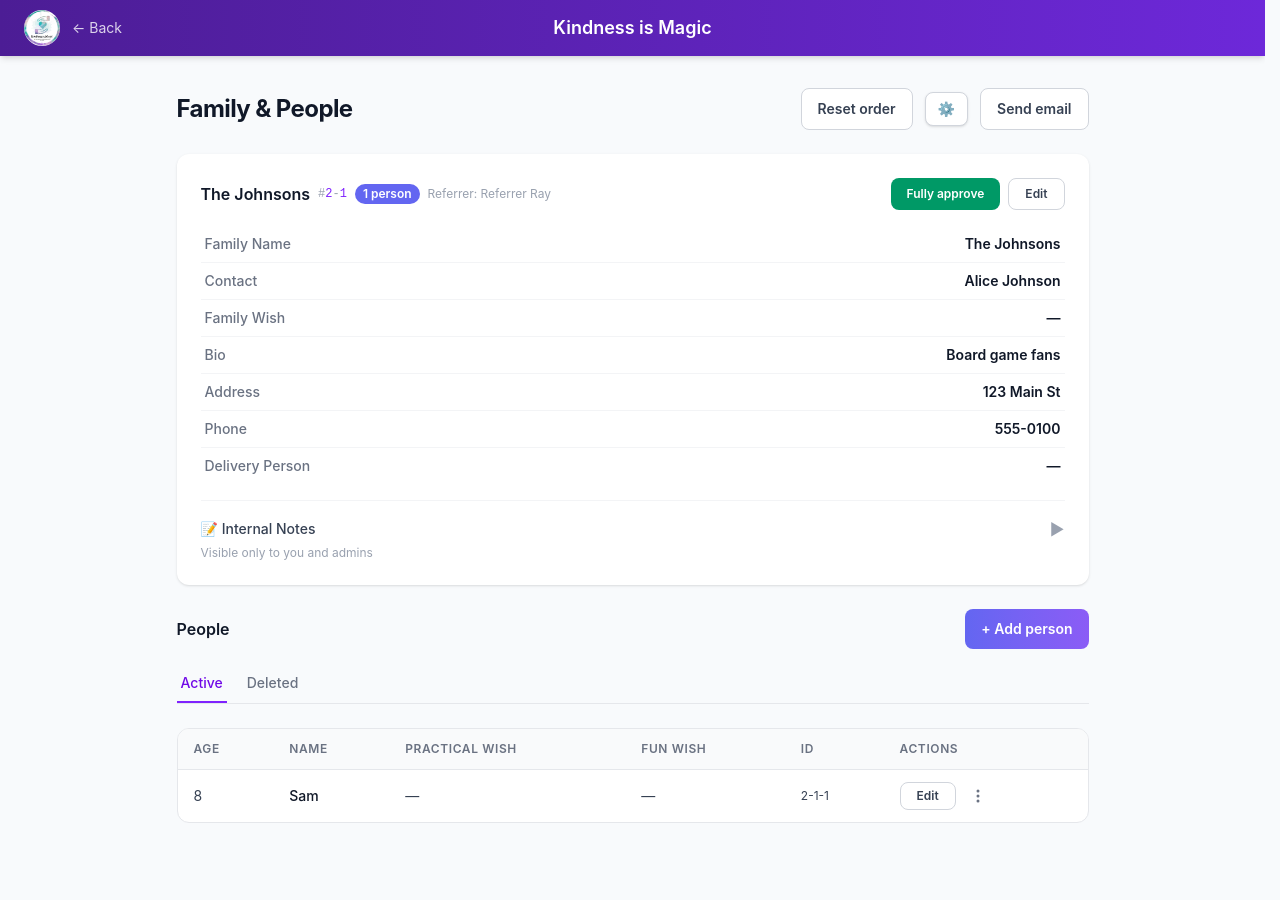
AdminFamilyPeople › people table column order › reset order restores the registry order and hides the button
Check: the text "Sam" is shown, box [273,770,389,822]
Click the button "Reset order": (856,109) [800,88,912,130]
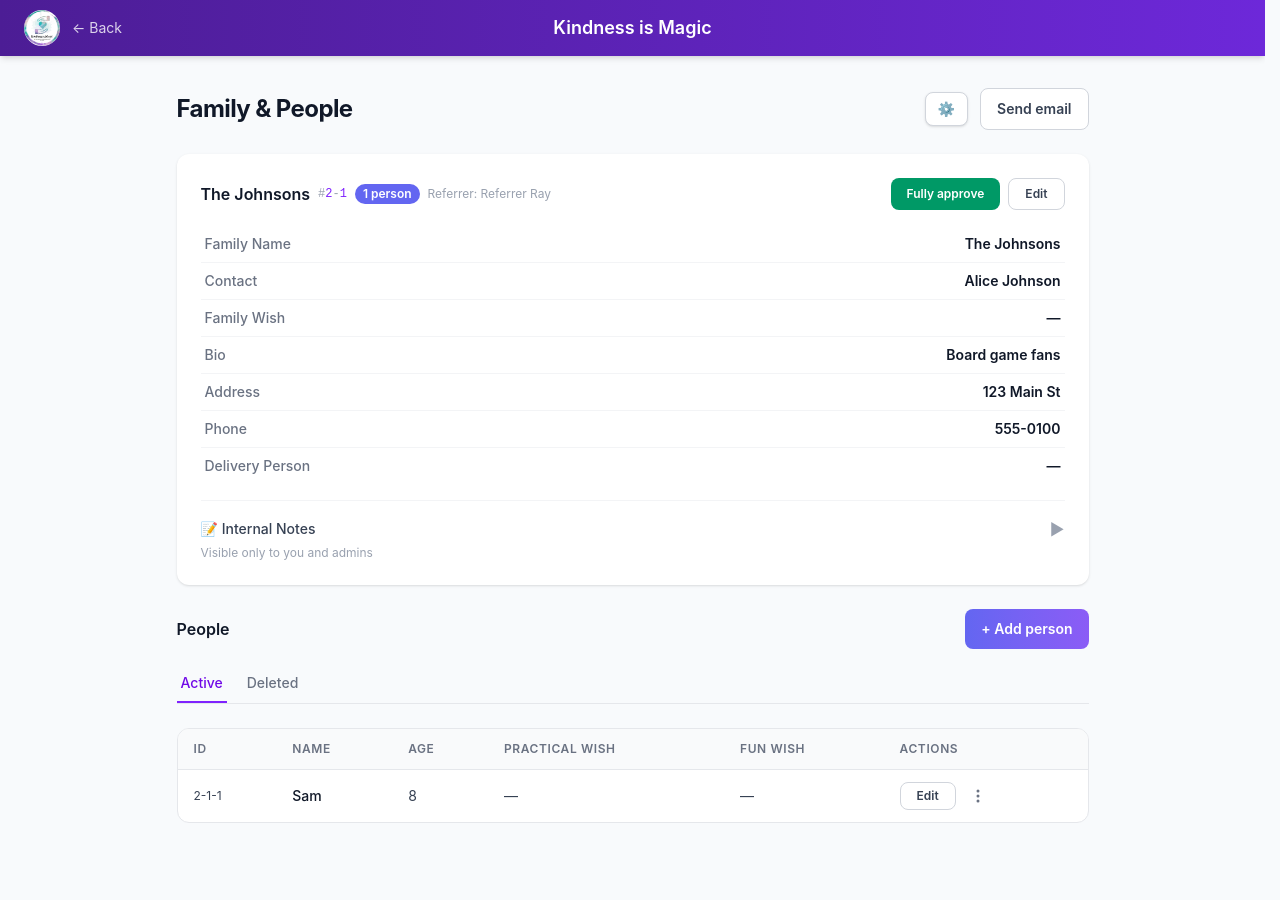
Check: the button "Reset order" is gone
